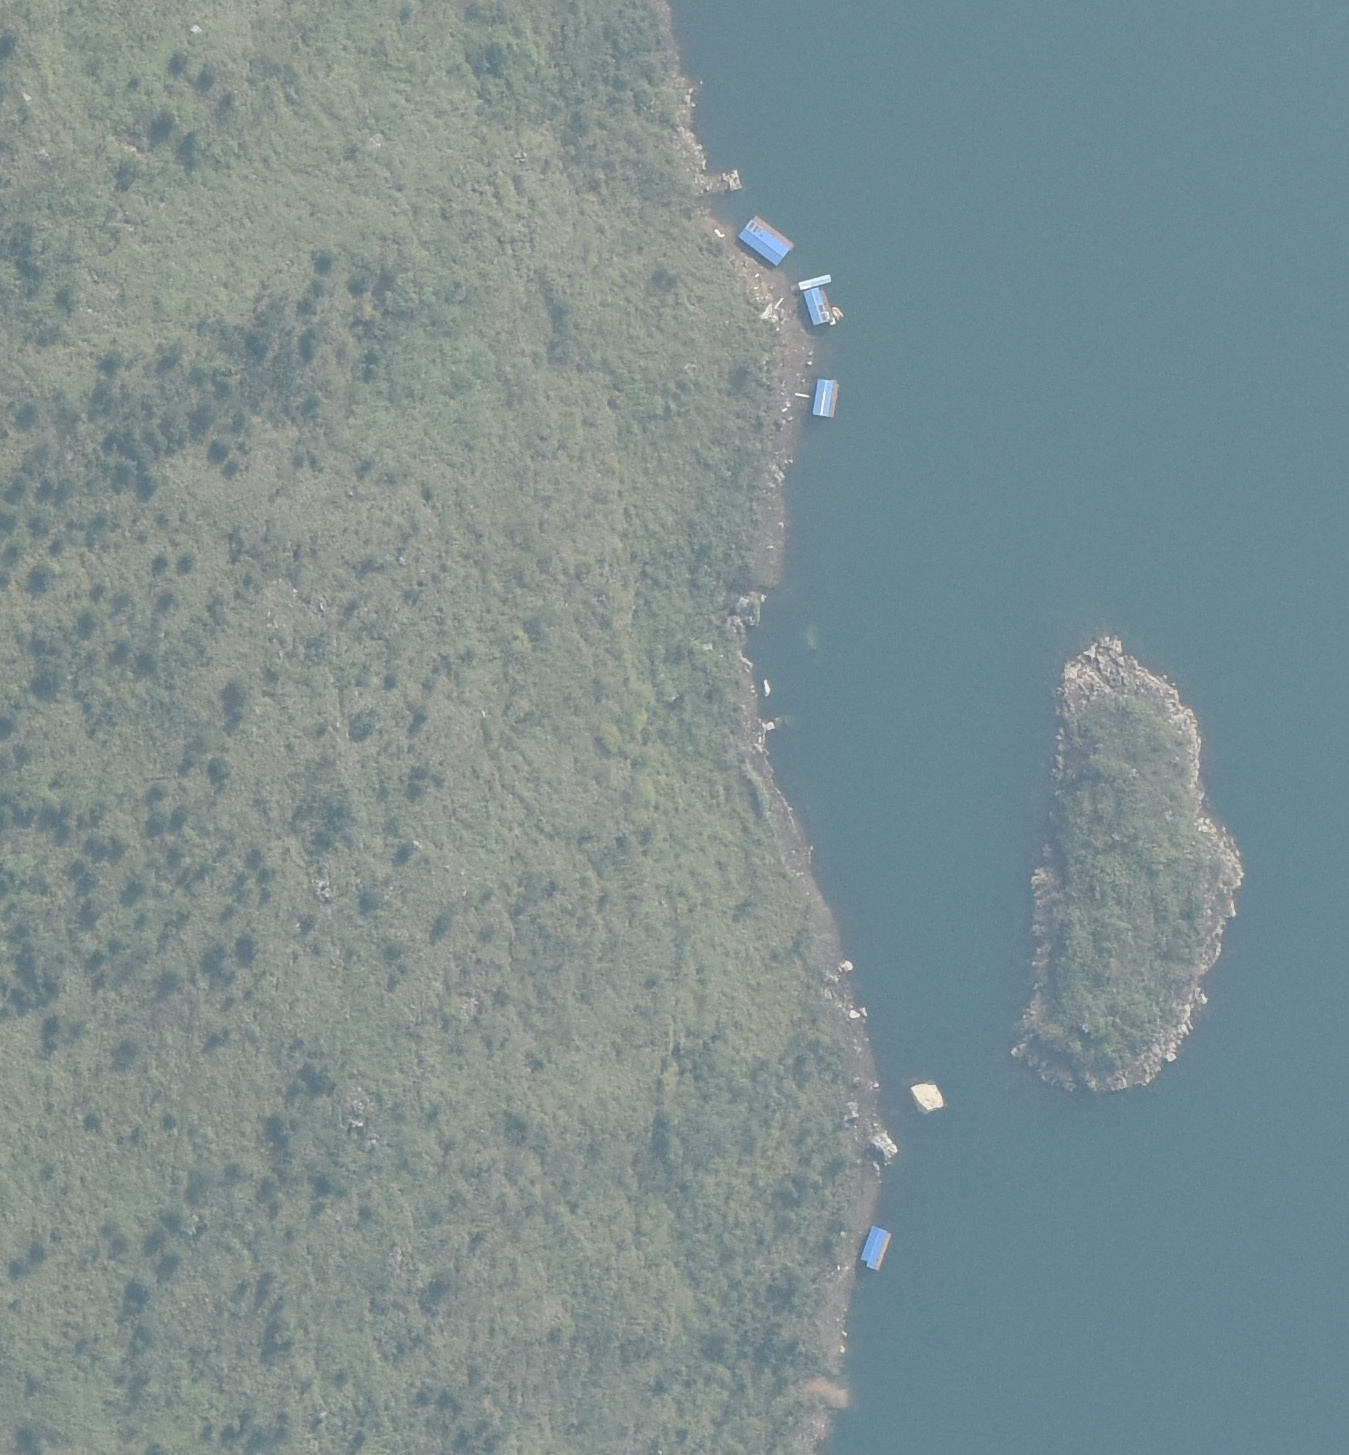prefabricated-house: (737, 218, 795, 269), (808, 376, 844, 421), (860, 1223, 893, 1270), (799, 288, 837, 324)
ship: (794, 275, 837, 288)
